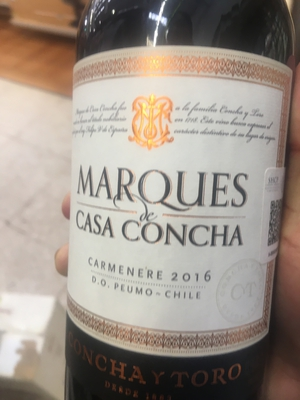marques de casa concha carmenere: (58, 12, 295, 400)
